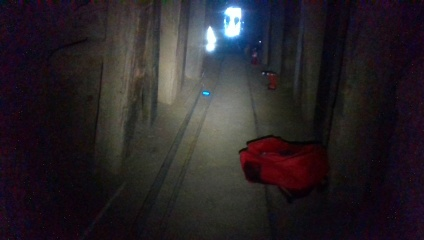backpack: (235, 138, 326, 199)
drill: (257, 70, 281, 94)
fire_extinguisher: (248, 44, 260, 65)
